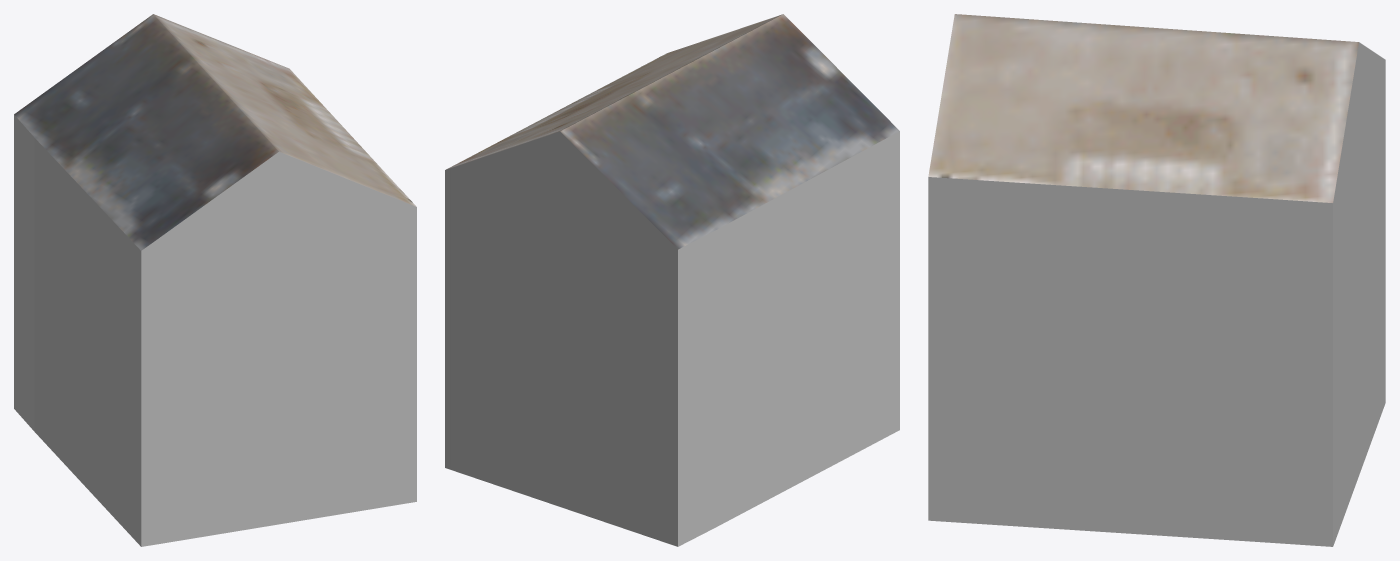
File: DEBW_0010007TxbV.gltf
3 renders of one model, left to right at view 1: azimuth 30°, elevation 25°; view 2: azimuth 150°, elevation 25°; view 3: azimuth 270°, elevation 25°, orthographic. The views are drawn at different scales.
Visible parts, largest first — view 1: Z_UP; view 2: Z_UP; view 3: Z_UP.
Part boxes in pixels (x1=…): Z_UP: x1=14, y1=14, x2=416, y2=546; Z_UP: x1=445, y1=14, x2=899, y2=546; Z_UP: x1=928, y1=14, x2=1385, y2=546.
Bounding box in the file's own units: 14.18 × 16.87 × 16.09.
2 materials, 1 textured.
